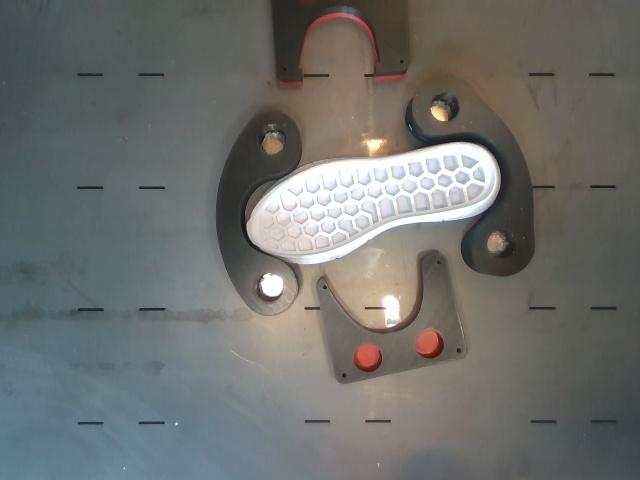shoes: (247, 144, 495, 256)
